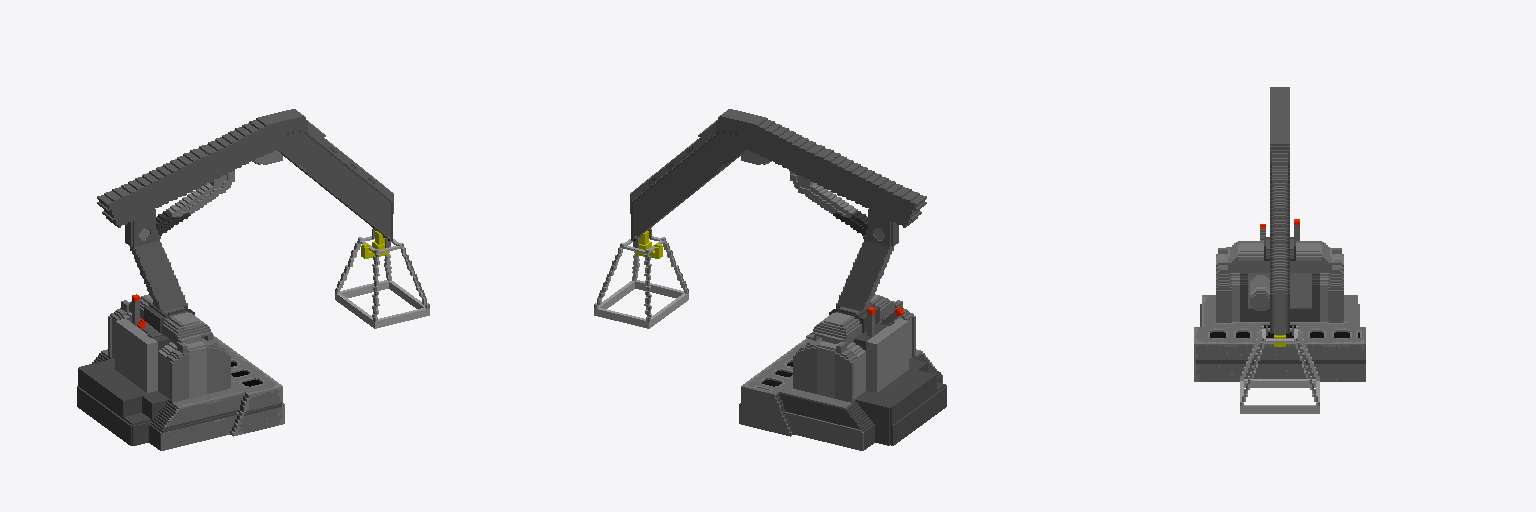
The picture shows the model from 3 angles: view 1: azimuth 30°, elevation 25°; view 2: azimuth 150°, elevation 25°; view 3: azimuth 270°, elevation 25°; orthographic projection.
Parts seen in each view (by area): view 1: object 1; view 2: object 1; view 3: object 1.
Part boxes in pixels (left/top/right/bottom): object 1: left=77, top=109, right=429, bottom=450; object 1: left=594, top=109, right=946, bottom=450; object 1: left=1194, top=87, right=1365, bottom=413.
Size of the model in its own units: 17.8 by 14.7 by 8.6.
Materials: 1 (1 with a texture image).